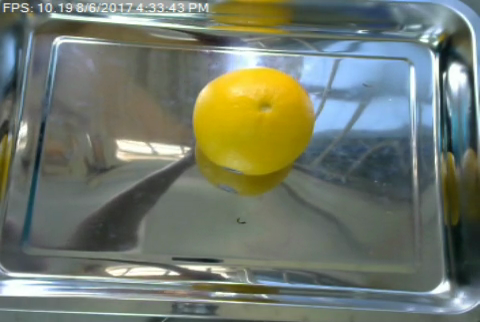Orange: (190, 66, 316, 174)
